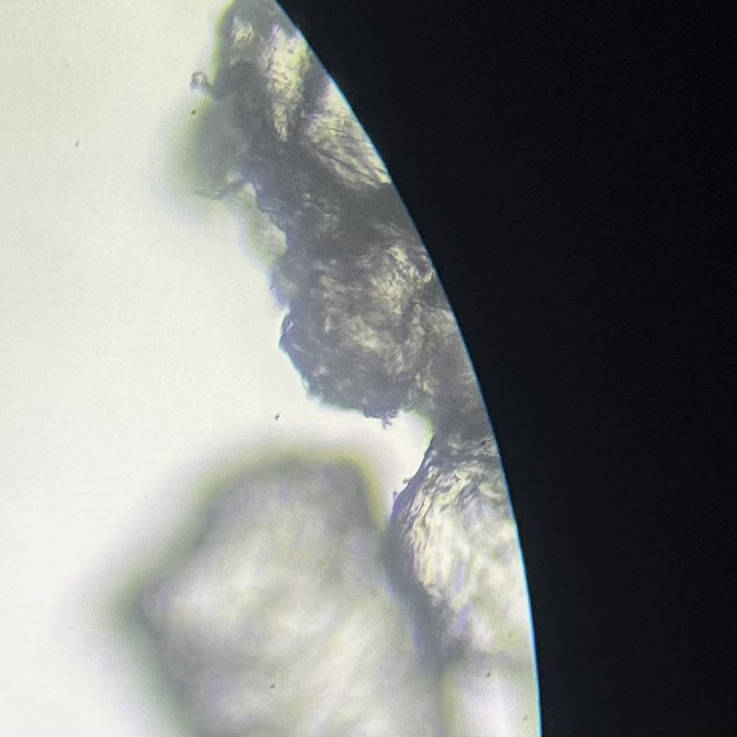microplastic: (188, 1, 496, 443), (122, 454, 446, 737), (381, 435, 541, 737)
